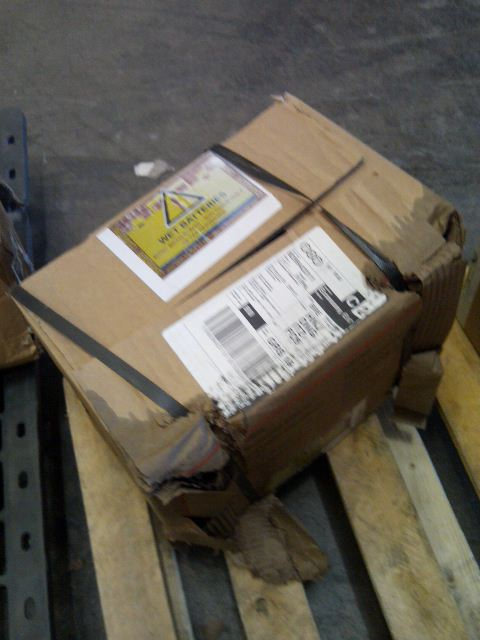label: (160, 223, 389, 416)
package: (6, 92, 470, 555)
